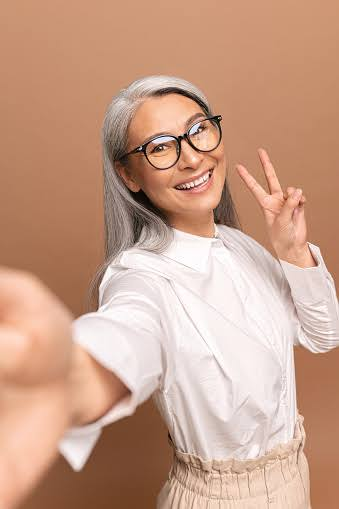peace_sign: (238, 142, 313, 254)
